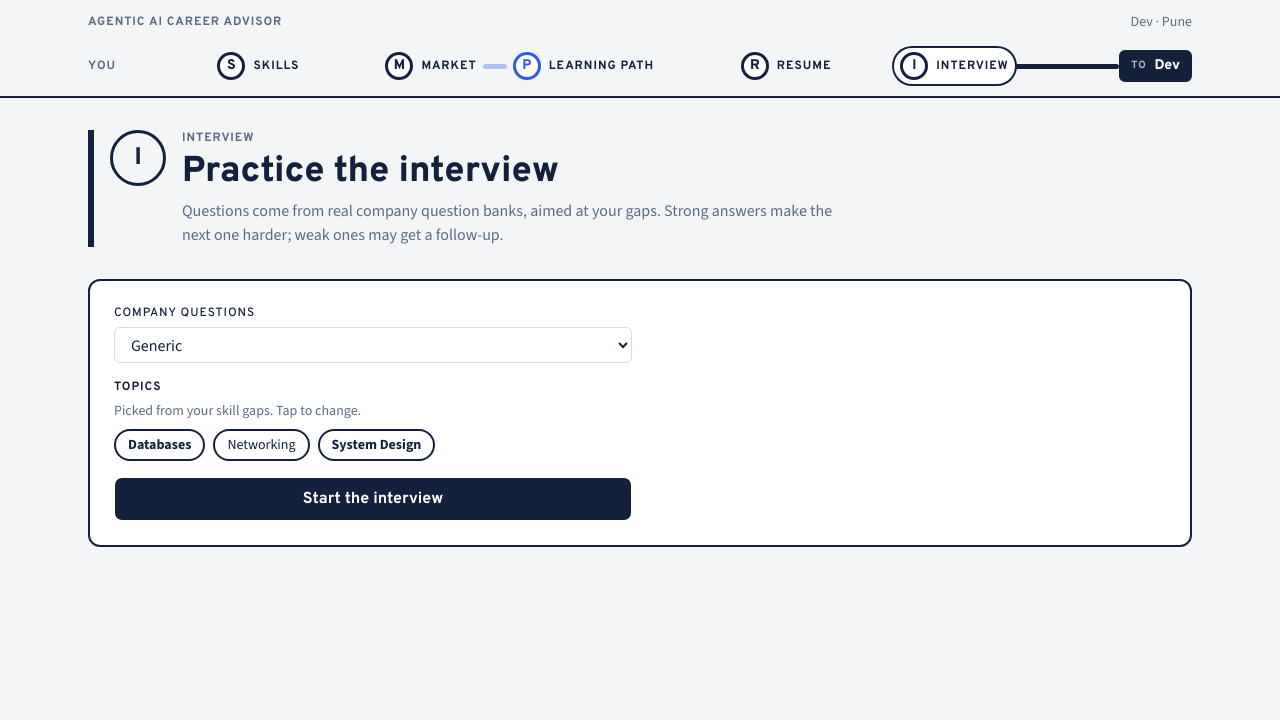
Interview topics › shows another company's own topics and suggestions, dropping earlier picks
The width and height of the screenshot is (1280, 720).
Later steps or results of the test are not shown.
Click the button "Networking": [261, 445] box x1=213 y1=429 x2=310 y2=461
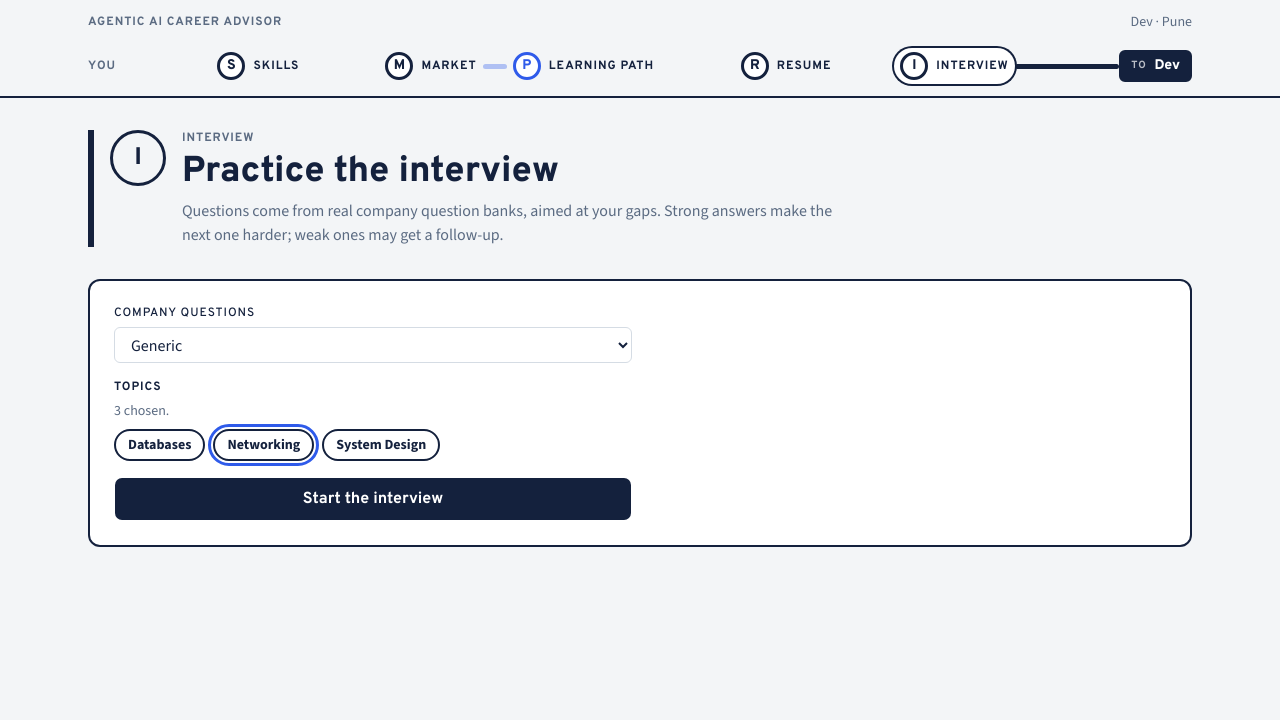
Select "Google" in the dropdown labelled "Company questions": [373, 345] box x1=114 y1=327 x2=632 y2=363
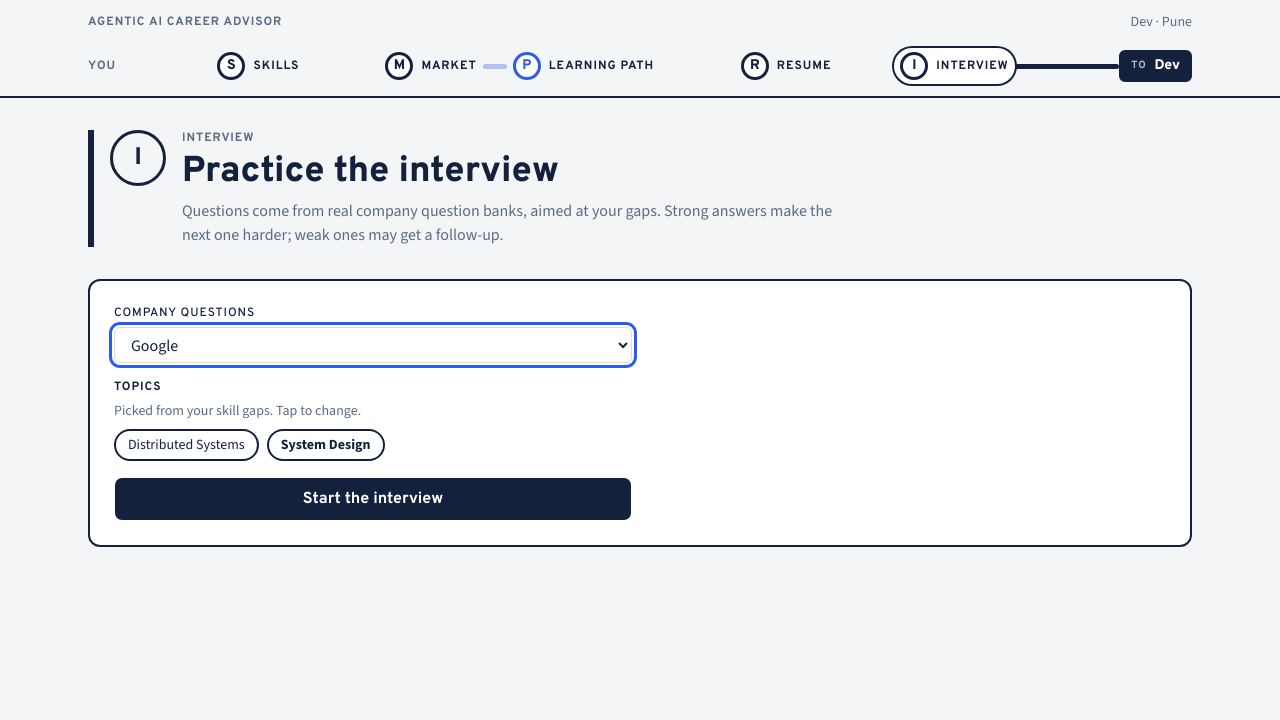
Expected: the button "Distributed Systems" is shown, x1=114 y1=429 x2=259 y2=461
Expected: the button "Networking" is gone
